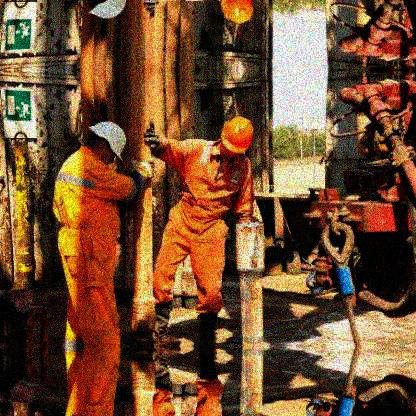helmet: (87, 120, 129, 166), (220, 117, 255, 158)
